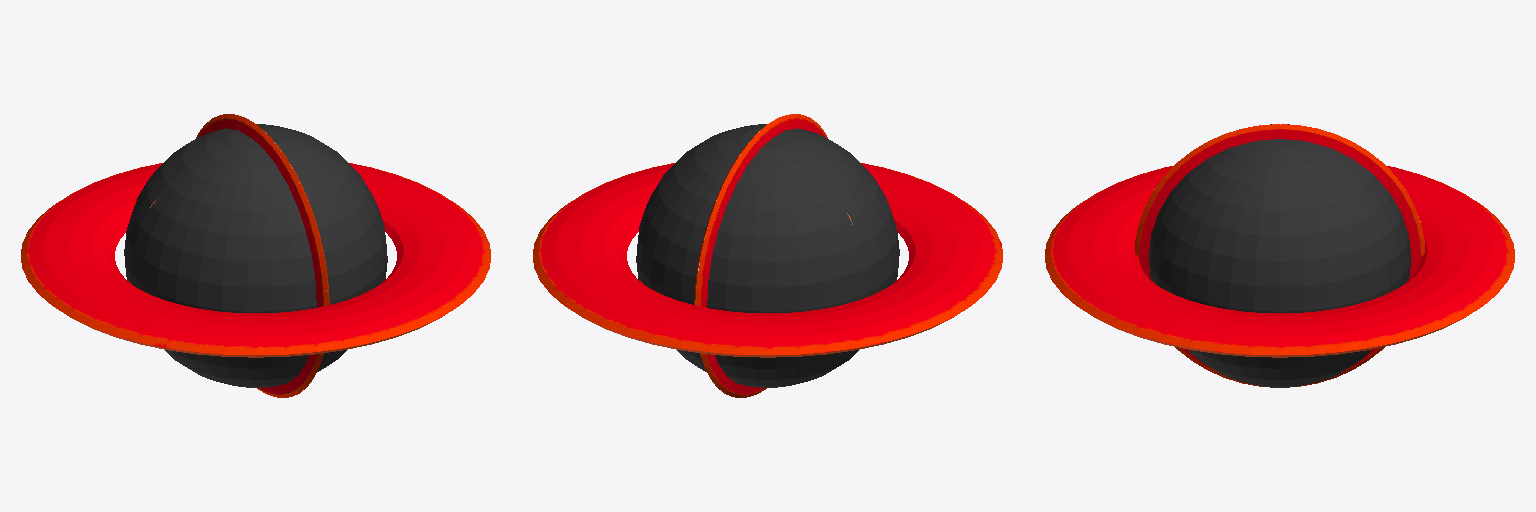
3 views of the same model, side by side, from view 1: azimuth 30°, elevation 25°; view 2: azimuth 150°, elevation 25°; view 3: azimuth 270°, elevation 25° (orthographic).
Parts seen in each view (by area): view 1: 球.001; view 2: 球.001; view 3: 球.001.
Part boxes in pixels (x1,y1,x2,y2): 球.001: (21,114,490,397); 球.001: (533,114,1002,397); 球.001: (1045,124,1514,387).
Bounding box in the file's own units: 1.41 × 0.87 × 1.41.
Materials: 1 (1 with a texture image).